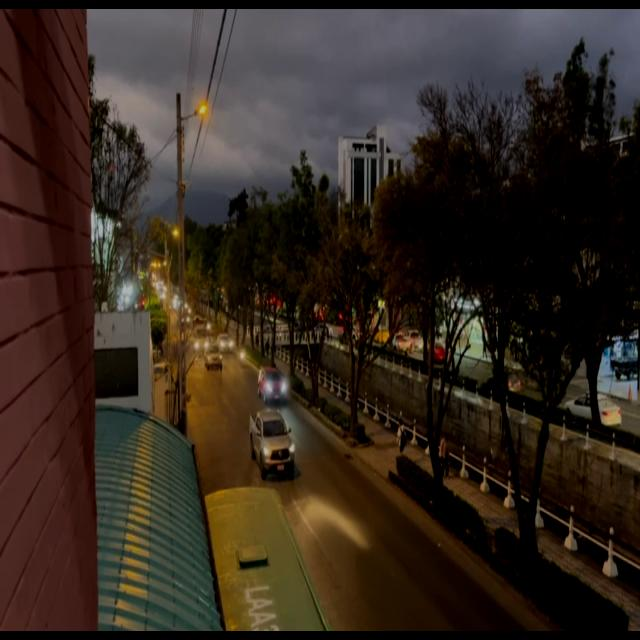CMT: (251, 410, 291, 476)
SUV: (261, 369, 285, 402)
